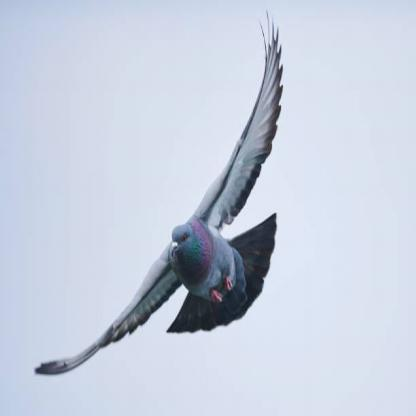Rock Pigeon: (29, 30, 284, 382)
